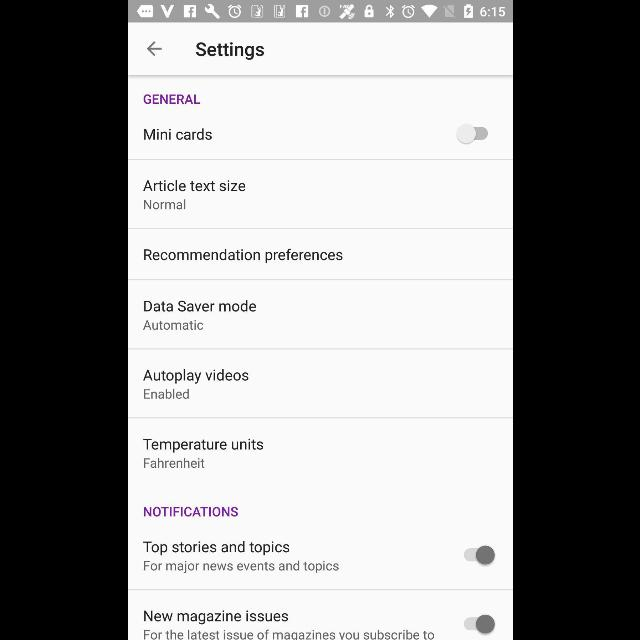icon: (146, 42, 162, 56)
switch: (463, 614, 495, 634), (455, 124, 487, 144), (464, 546, 494, 566)
text: (142, 628, 434, 640), (144, 248, 342, 264), (144, 560, 338, 574), (143, 540, 289, 556), (143, 611, 287, 625), (142, 439, 262, 453), (142, 370, 248, 384), (144, 300, 256, 312), (143, 180, 245, 192), (195, 42, 263, 60), (143, 507, 237, 517), (143, 128, 211, 140), (143, 458, 204, 468), (143, 320, 203, 330), (143, 94, 200, 104), (144, 388, 188, 399), (143, 200, 185, 210)
toolbar: (128, 23, 512, 75)
uppertaskbar: (128, 1, 512, 23)
